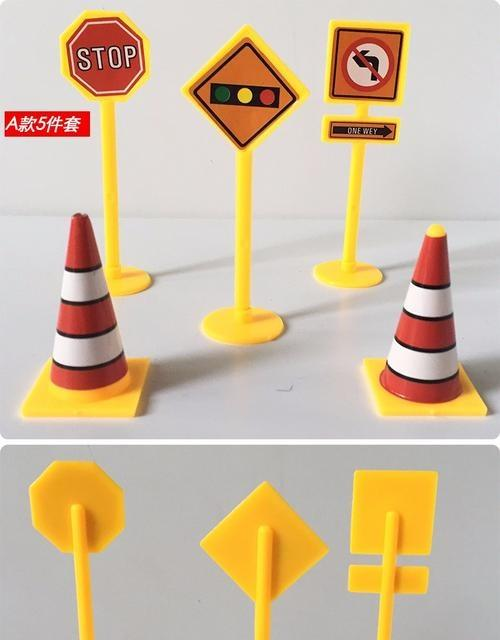cone_barrel: (22, 217, 136, 407), (367, 227, 477, 407)
